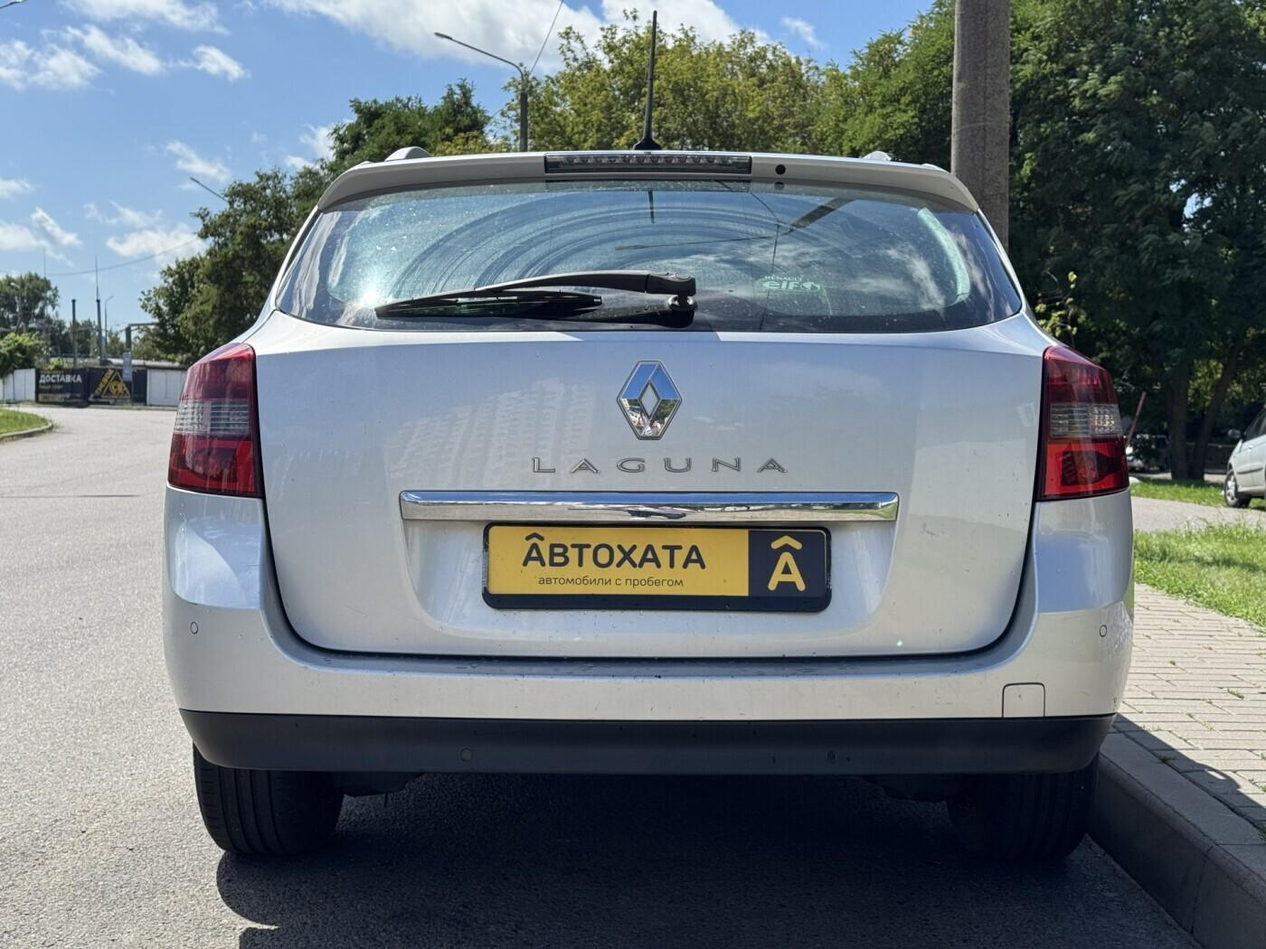Laguna_2010-2015: (154, 128, 1142, 872)
